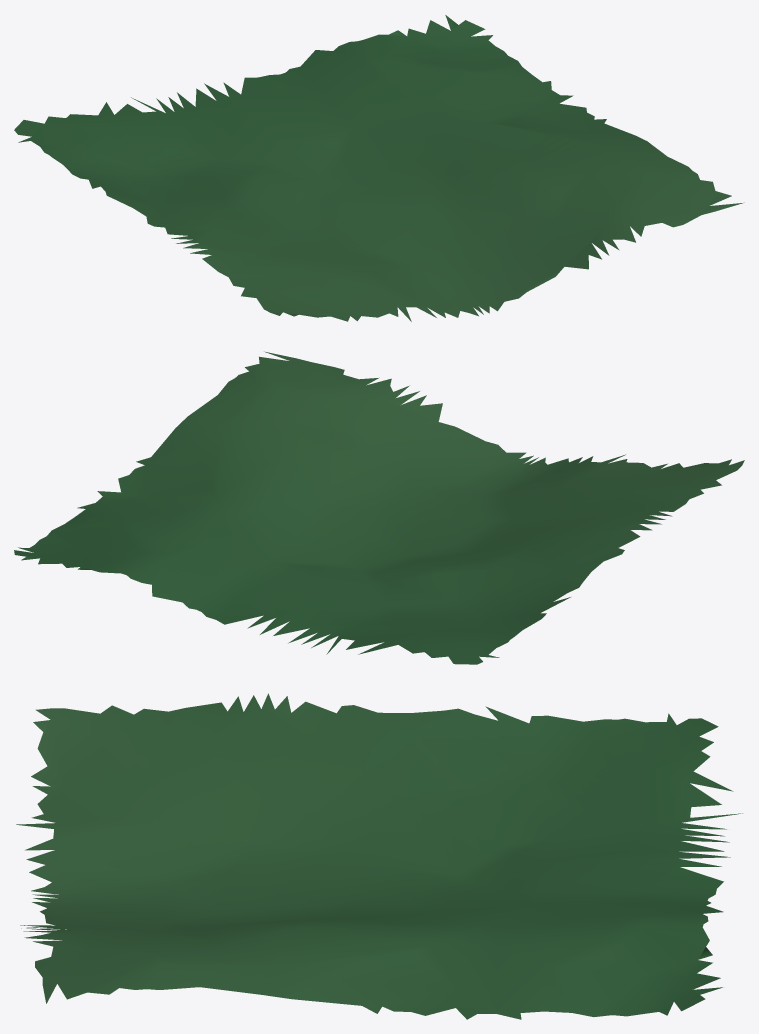
File: payo_land_x2_y7_lod2.glb
3 renders of one model, top to bottom at view 1: azimuth 30°, elevation 25°; view 2: azimuth 150°, elevation 25°; view 3: azimuth 270°, elevation 25°, orthographic. The views are drawn at different scales.
Visible parts, largest first — view 1: payo_land_x2_y7; view 2: payo_land_x2_y7; view 3: payo_land_x2_y7.
Boxes of the visible parts, bbox=[...] form: payo_land_x2_y7: bbox=[14, 15, 744, 321]; payo_land_x2_y7: bbox=[14, 351, 744, 664]; payo_land_x2_y7: bbox=[16, 693, 742, 1019].
Size of the model in its own units: 270 by 29.51 by 281.
